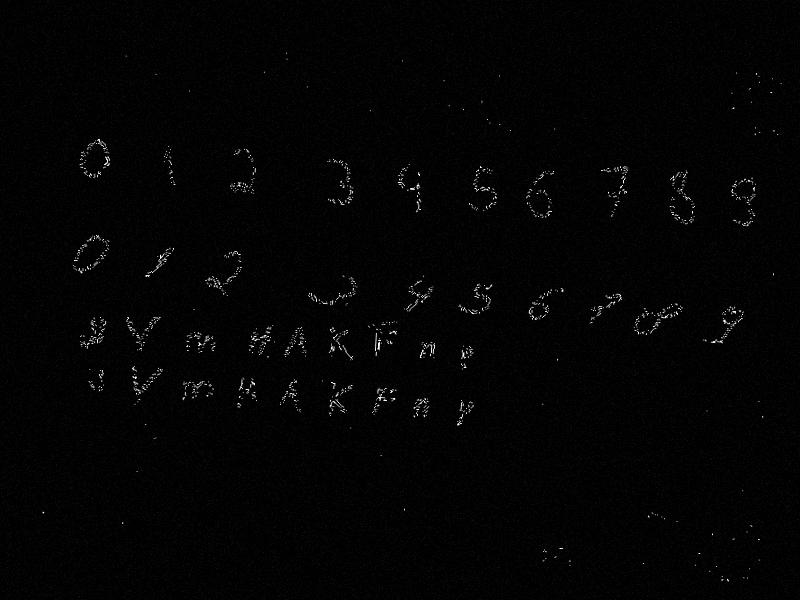0: (70, 229, 114, 277), (76, 136, 113, 181)
1: (138, 240, 178, 281), (156, 142, 179, 188)
2: (201, 249, 245, 300), (226, 144, 262, 198)
3: (305, 269, 360, 310), (321, 155, 358, 208)
4: (392, 162, 426, 216), (398, 273, 438, 314)
5: (464, 164, 501, 215), (455, 280, 496, 316)
6: (521, 166, 559, 222), (525, 284, 566, 325)
7: (592, 162, 633, 220), (584, 289, 624, 328)
8: (629, 290, 685, 342), (663, 167, 701, 229)
9: (698, 302, 748, 352), (725, 173, 760, 231)
A: (279, 377, 303, 415), (284, 324, 309, 360)
F: (370, 385, 398, 420), (372, 326, 398, 362)
H: (248, 321, 275, 359), (236, 374, 258, 410)
V: (126, 363, 165, 410), (121, 313, 163, 354)
k: (324, 325, 356, 363), (326, 378, 355, 419)
m: (181, 330, 219, 359), (179, 377, 217, 406)
n: (410, 395, 430, 421), (418, 338, 437, 364)
p: (454, 397, 475, 430), (458, 343, 476, 373)
u: (72, 313, 111, 356), (83, 364, 109, 395)
